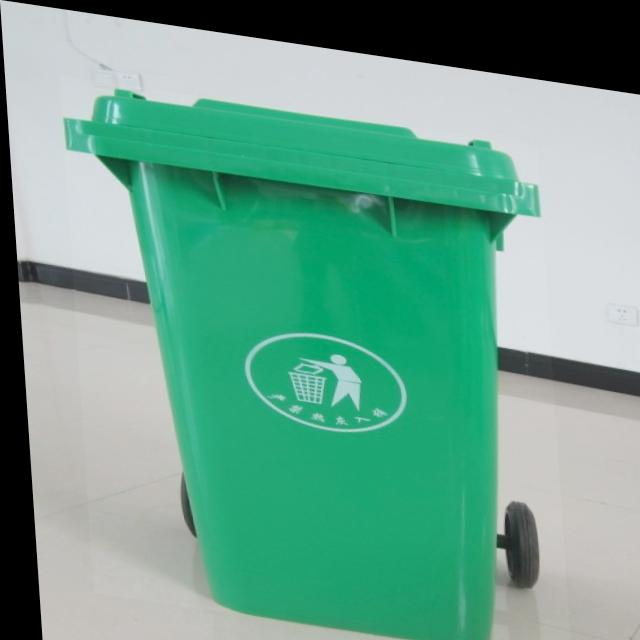garbage_bin: (59, 74, 564, 640)
